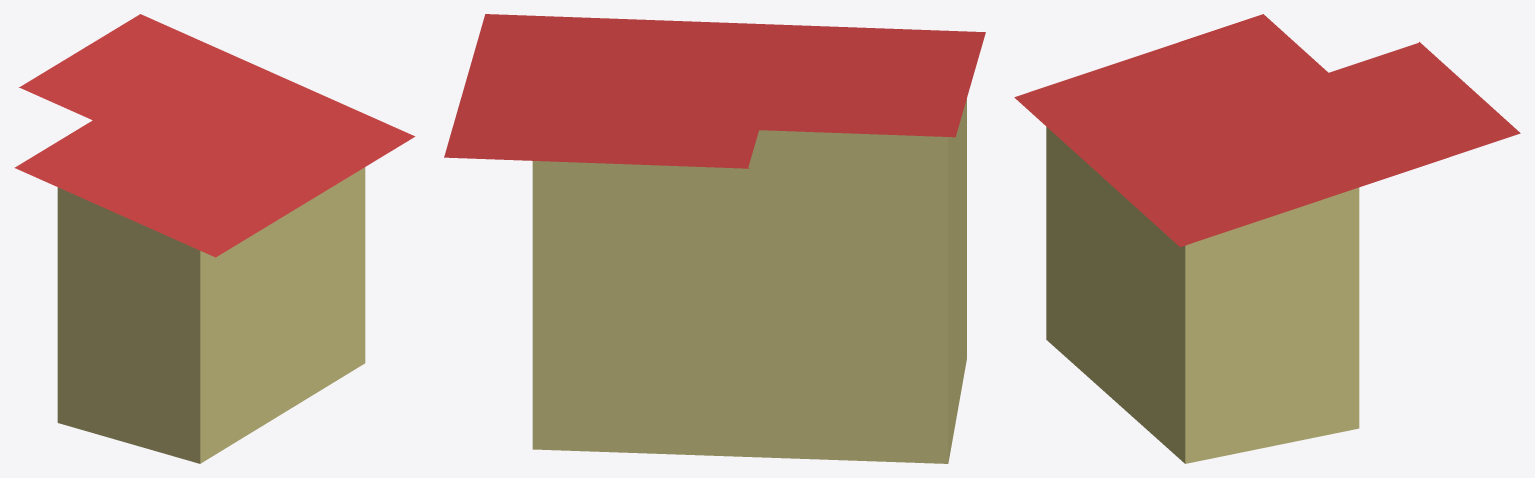
3 renders of one model, left to right at view 1: azimuth 30°, elevation 25°; view 2: azimuth 150°, elevation 25°; view 3: azimuth 270°, elevation 25°, orthographic. The views are drawn at different scales.
Bounding box in the file's own units: 8.72 × 9.38 × 5.91.
